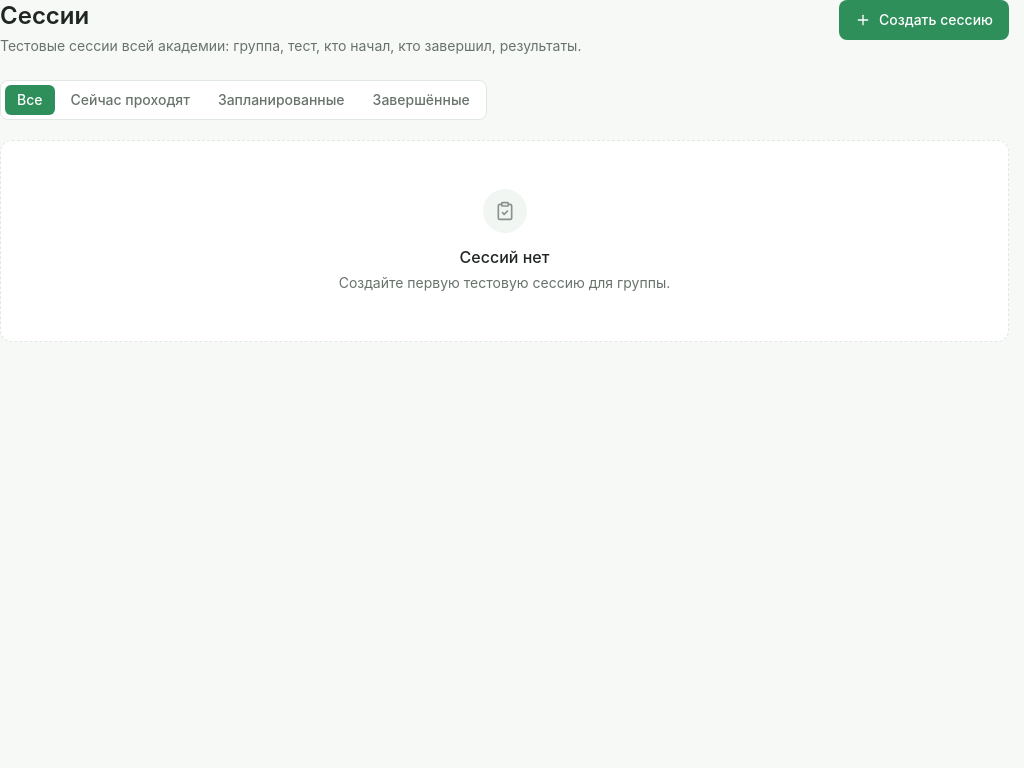
it: Team Lead — Сессии › requires a test and a group
The image size is (1024, 768).
Click the button "Создать сессию". click: click(924, 20)
box: [839, 0, 1009, 40]
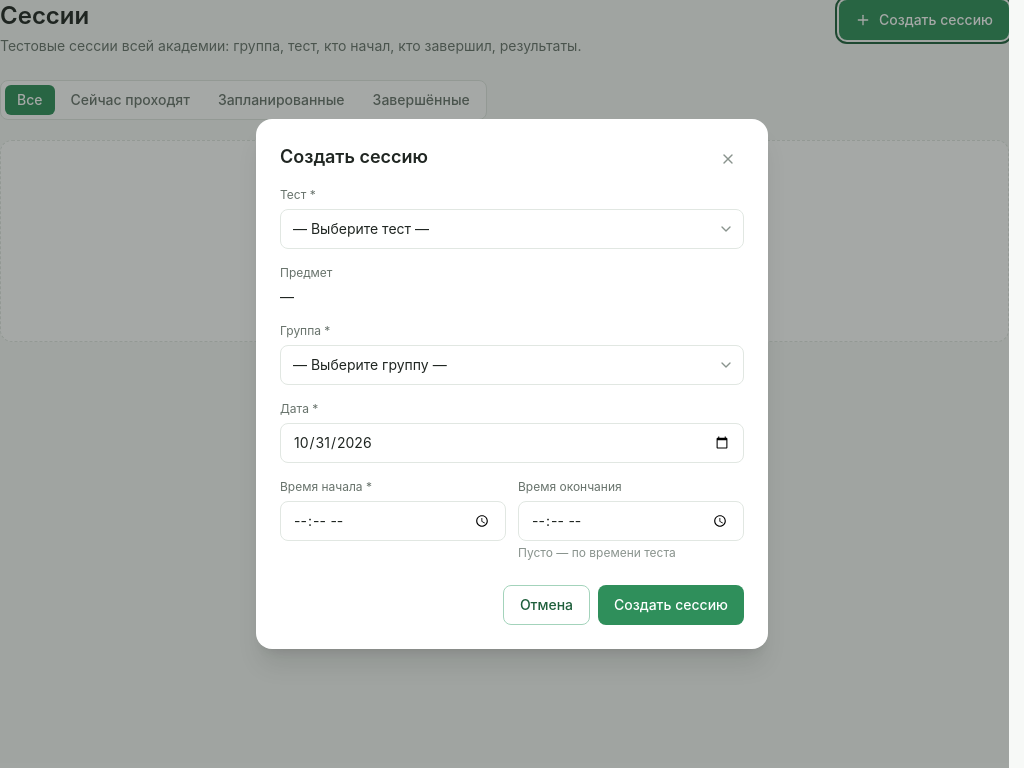
Click the button "Создать сессию". click: click(671, 605)
box: [598, 585, 744, 625]
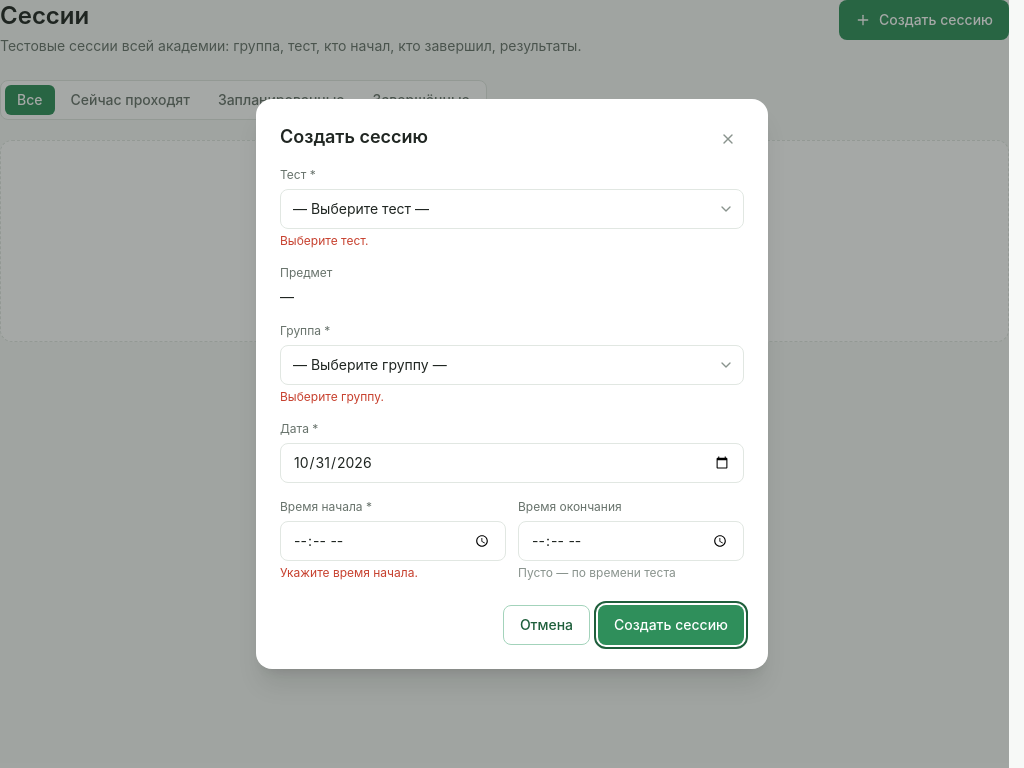
Now the text "Выберите тест." is shown, box [280, 233, 369, 248]
Now the text "Выберите группу." is shown, box [280, 389, 384, 404]
